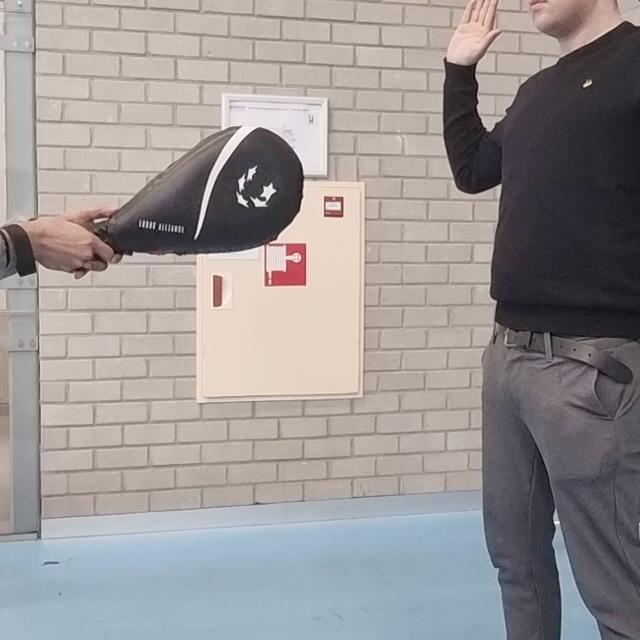paddle: (87, 125, 305, 257)
